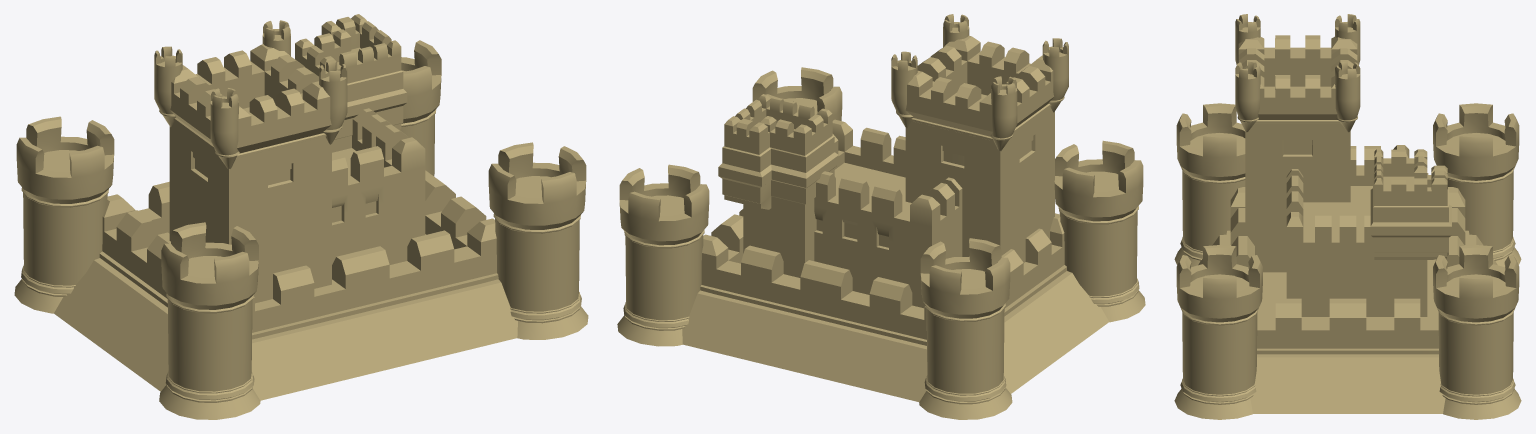
File: castle.fbx
The picture shows the model from 3 angles, left to right: view 1: azimuth 30°, elevation 25°; view 2: azimuth 150°, elevation 25°; view 3: azimuth 270°, elevation 25°; orthographic projection. The views are drawn at different scales.
Visible parts, largest first — view 1: Castle.001; view 2: Castle.001; view 3: Castle.001.
Boxes of the visible parts, x1,y1,x2,y2 form: Castle.001: (14,14,588,419); Castle.001: (617,14,1145,419); Castle.001: (1174,14,1521,419).
Size of the model in its own units: 19.43 by 12.78 by 15.84.
